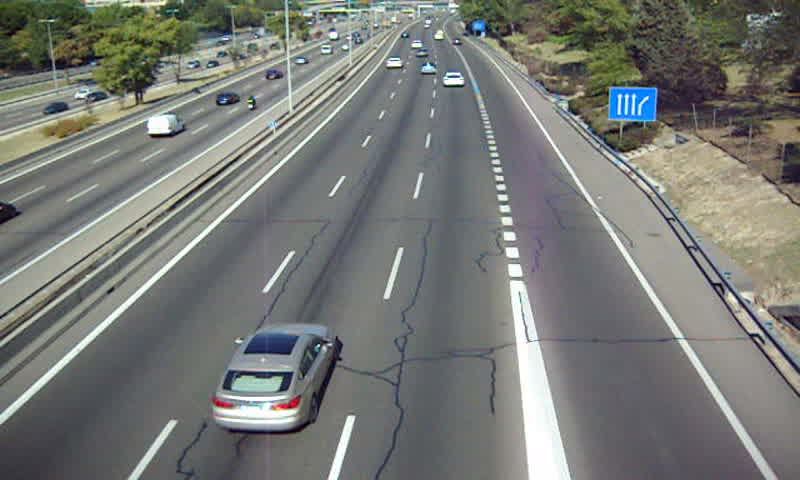car: (212, 325, 338, 430), (442, 71, 466, 88), (385, 57, 405, 69), (420, 60, 436, 75)
